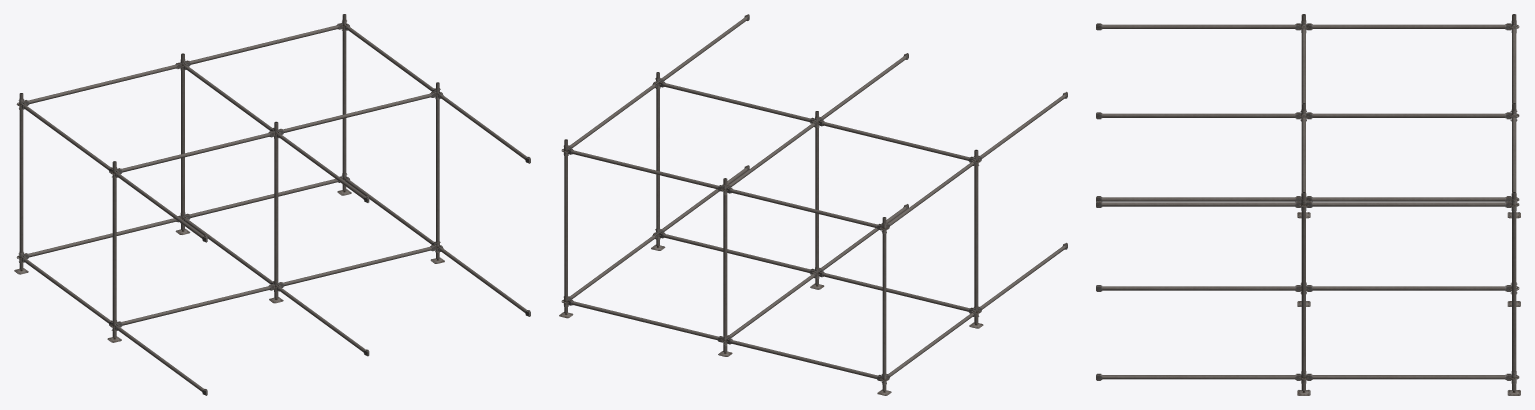
The model's file is scaffold_empty_foot_192.fbx.
3 views of the same model, side by side, from view 1: azimuth 30°, elevation 25°; view 2: azimuth 150°, elevation 25°; view 3: azimuth 270°, elevation 25° (orthographic). The views are drawn at different scales.
Parts seen in each view (by area): view 1: scaffold_empty_foot_192; view 2: scaffold_empty_foot_192; view 3: scaffold_empty_foot_192.
Boxes of the visible parts, x1,y1,x2,y2 form: scaffold_empty_foot_192: [14, 14, 530, 395]; scaffold_empty_foot_192: [559, 14, 1067, 395]; scaffold_empty_foot_192: [1096, 14, 1520, 395].
Size of the model in its own units: 396 by 202 by 388.
